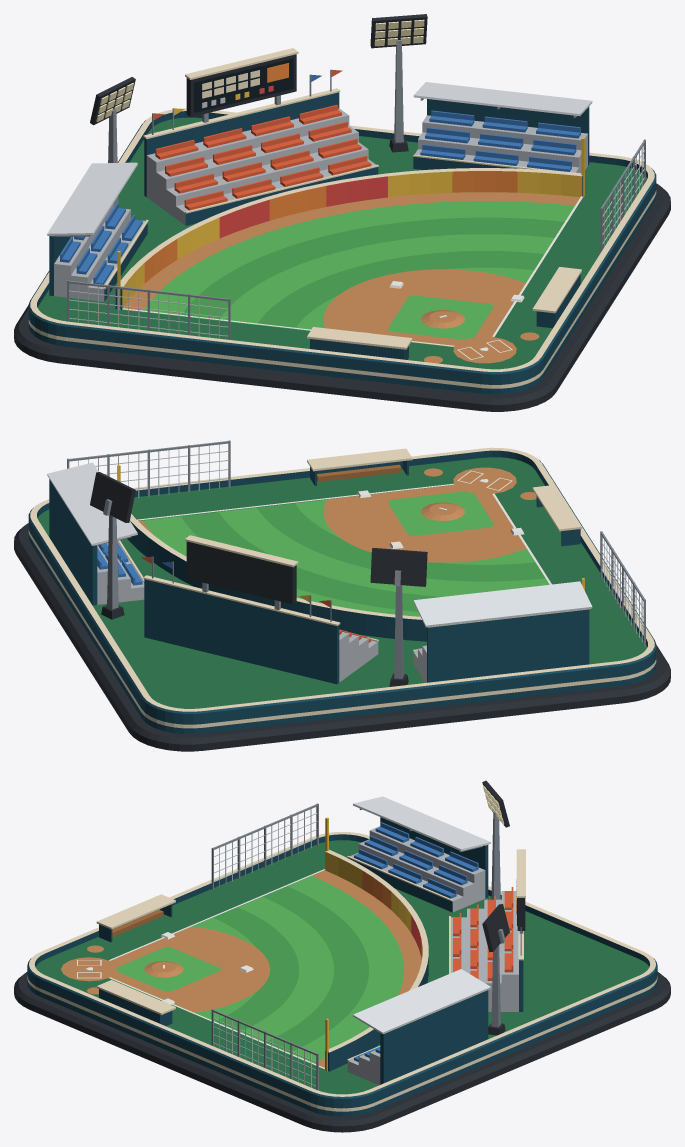
File: stadium.obj
3 views of the same model, one above another, from view 1: azimuth 30°, elevation 25°; view 2: azimuth 150°, elevation 25°; view 3: azimuth 270°, elevation 25° (orthographic). The views are drawn at different scales.
Visible parts, largest first — view 1: body, grass_a, foul, trim, dirt, plinth, grass_b, concrete, seat_a, seat_b, roof, zone_1 (+8 smaller); view 2: body, foul, plinth, trim, grass_a, dirt, grass_b, board_frame, roof, metal, concrete, net (+3 smaller); view 3: body, foul, grass_a, plinth, trim, dirt, grass_b, concrete, roof, metal, seat_b, net (+5 smaller).
Part boxes in pixels (x1,y1,x2,y2): body: [28, 92, 656, 394]; grass_a: [143, 201, 574, 347]; foul: [37, 117, 646, 369]; trim: [28, 48, 656, 388]; dirt: [123, 192, 579, 363]; plinth: [14, 183, 670, 411]; grass_b: [181, 217, 564, 346]; concrete: [54, 108, 587, 301]; seat_a: [153, 70, 371, 210]; seat_b: [60, 74, 580, 284]; roof: [47, 82, 592, 235]; zone_1: [117, 91, 584, 310]; body: [28, 450, 656, 733]; foul: [37, 457, 647, 708]; plinth: [14, 523, 670, 751]; trim: [28, 447, 656, 728]; grass_a: [142, 491, 549, 616]; dirt: [138, 467, 536, 562]; grass_b: [181, 503, 545, 611]; board_frame: [90, 472, 427, 686]; roof: [47, 462, 592, 627]; metal: [67, 440, 645, 678]; concrete: [97, 541, 426, 682]; net: [78, 444, 643, 642]; body: [27, 817, 657, 1116]; foul: [35, 840, 649, 1094]; grass_a: [109, 876, 403, 1063]; plinth: [14, 972, 670, 1132]; trim: [27, 832, 657, 1111]; dirt: [61, 870, 421, 1069]; grass_b: [115, 886, 368, 1053]; concrete: [347, 826, 518, 1085]; roof: [353, 796, 490, 1034]; metal: [211, 803, 523, 1090]; seat_b: [354, 822, 478, 1061]; net: [213, 809, 317, 1087].
Bounding box in the file's own units: 53.21 × 12.66 × 53.21.
